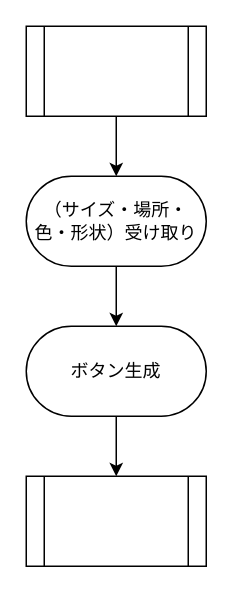
The diagram is 233 pixels wide and 593 high, and some of its shapes have lost their labels. The centre of each missing label's shape, as x and y in pixels:
"ボタン表示 (終了)" goes at pixel 115 520.
"ボタン表示 (開始)" goes at pixel 115 70.
